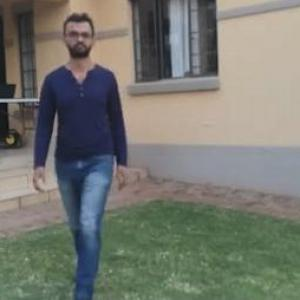follow: (40, 6, 131, 299)
